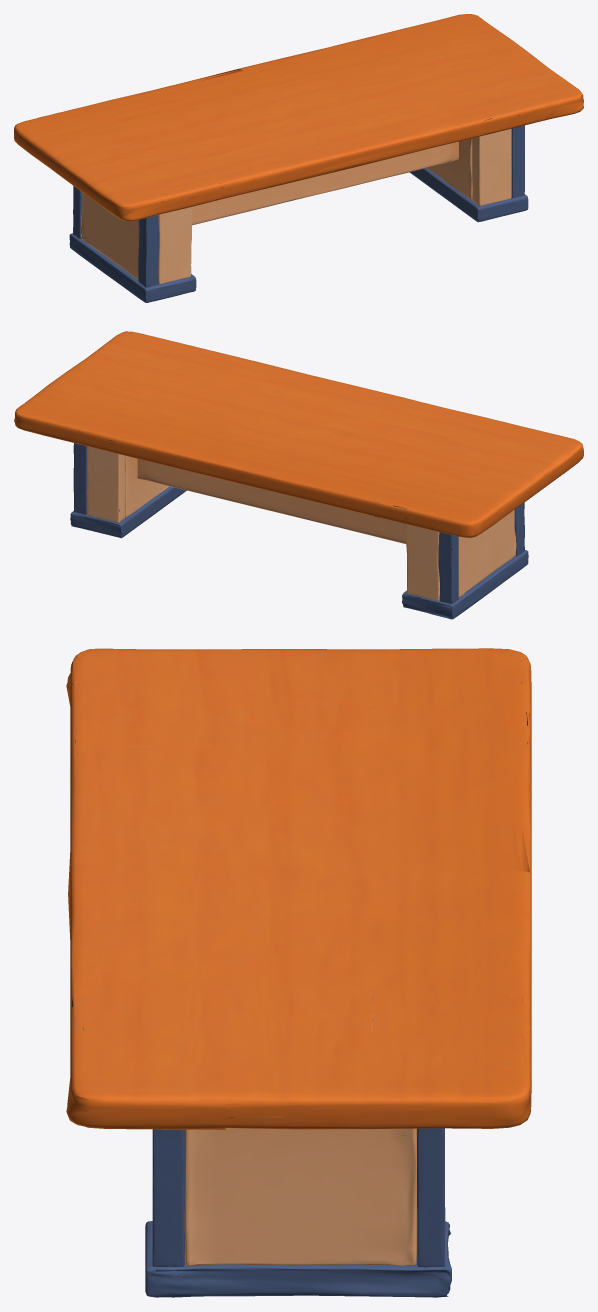
The model's file is Meshy_AI_Orange_Workbench_20261108_texture.fbx.
3 views of the same model, one above another, from view 1: azimuth 30°, elevation 25°; view 2: azimuth 150°, elevation 25°; view 3: azimuth 270°, elevation 25° (orthographic). The views are drawn at different scales.
Parts seen in each view (by area): view 1: geometry_0; view 2: geometry_0; view 3: geometry_0.
Boxes of the visible parts, left/top/right/bottom form: geometry_0: left=14, top=14, right=583, bottom=302; geometry_0: left=14, top=331, right=583, bottom=619; geometry_0: left=66, top=648, right=531, bottom=1297.
Bounding box in the file's own units: 94.97 × 23.44 × 41.11.
Materials: 1 (1 with a texture image).
